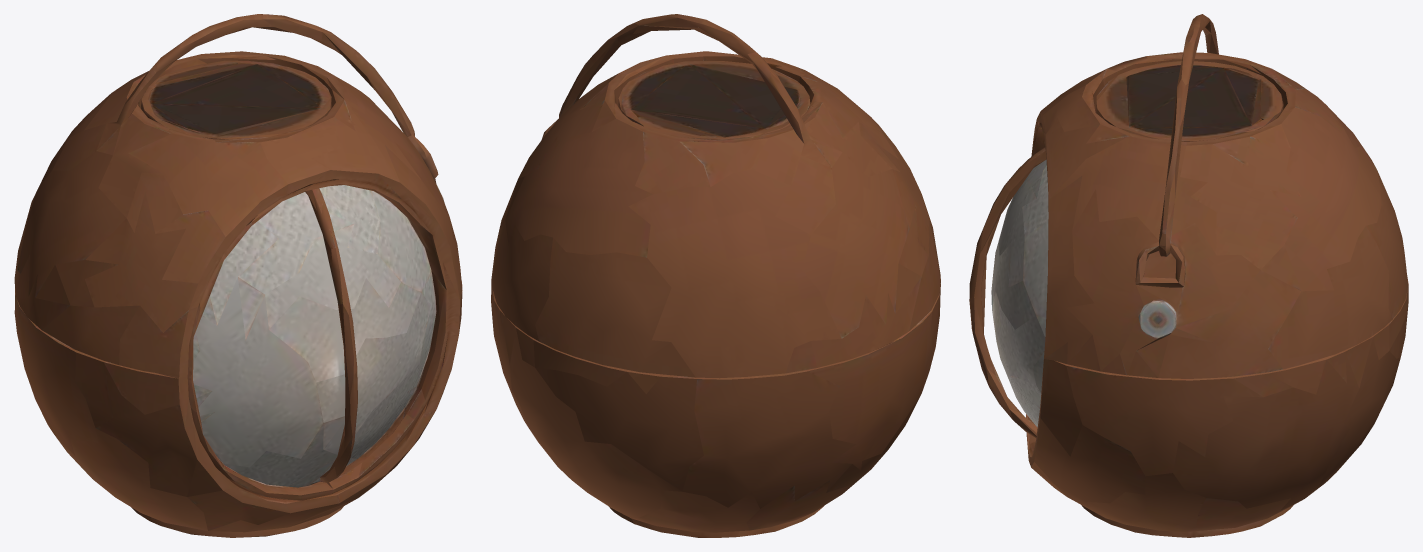
3 views of the same model, side by side, from view 1: azimuth 30°, elevation 25°; view 2: azimuth 150°, elevation 25°; view 3: azimuth 270°, elevation 25° (orthographic).
Size of the model in its own units: 0.8655 by 1 by 0.8494.
Materials: 1 (1 with a texture image).
